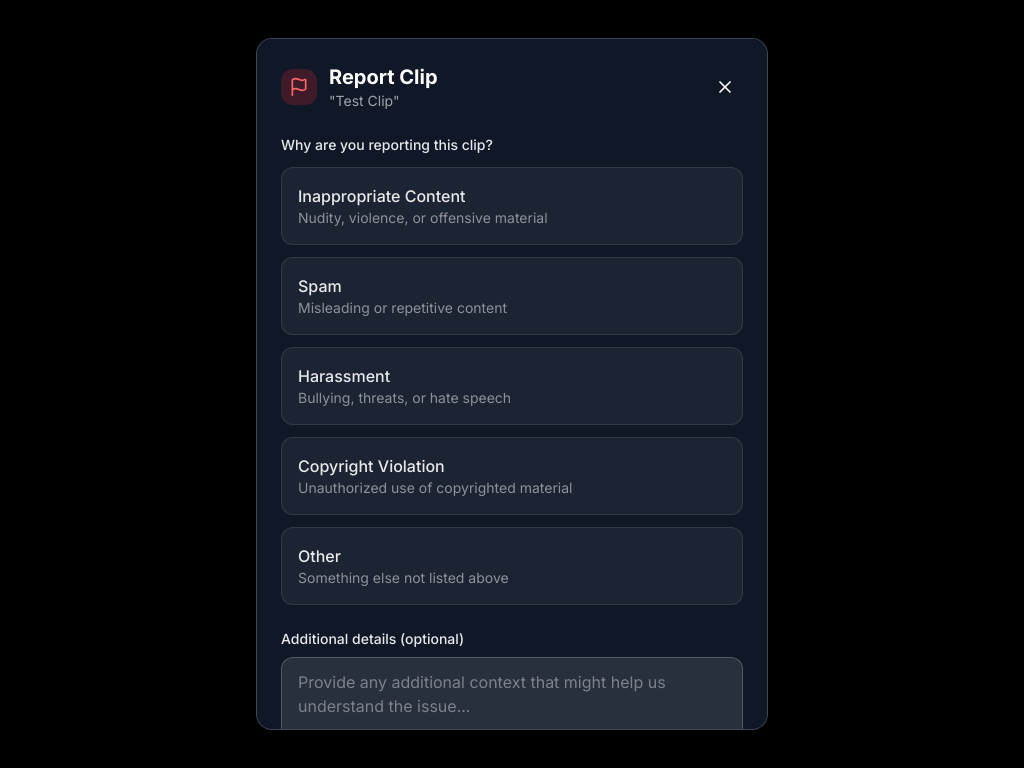
Test: ReportModal › submits report successfully and shows success message
// Select a reason
Click the text "Inappropriate Content": (382, 196) [298,186,466,206]
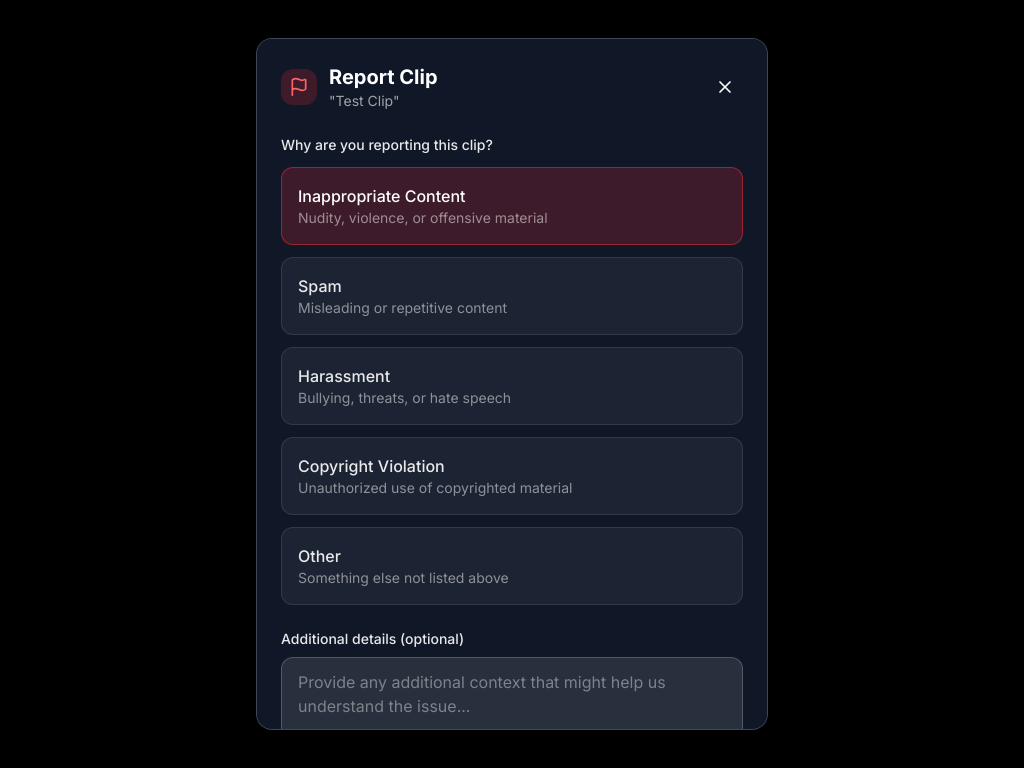
// Type additional details
Replace the text in the text box with placeholder "Provide any additional context" with "Offensive content in clip": (512, 706) [281,657,743,755]
(page scrolled)
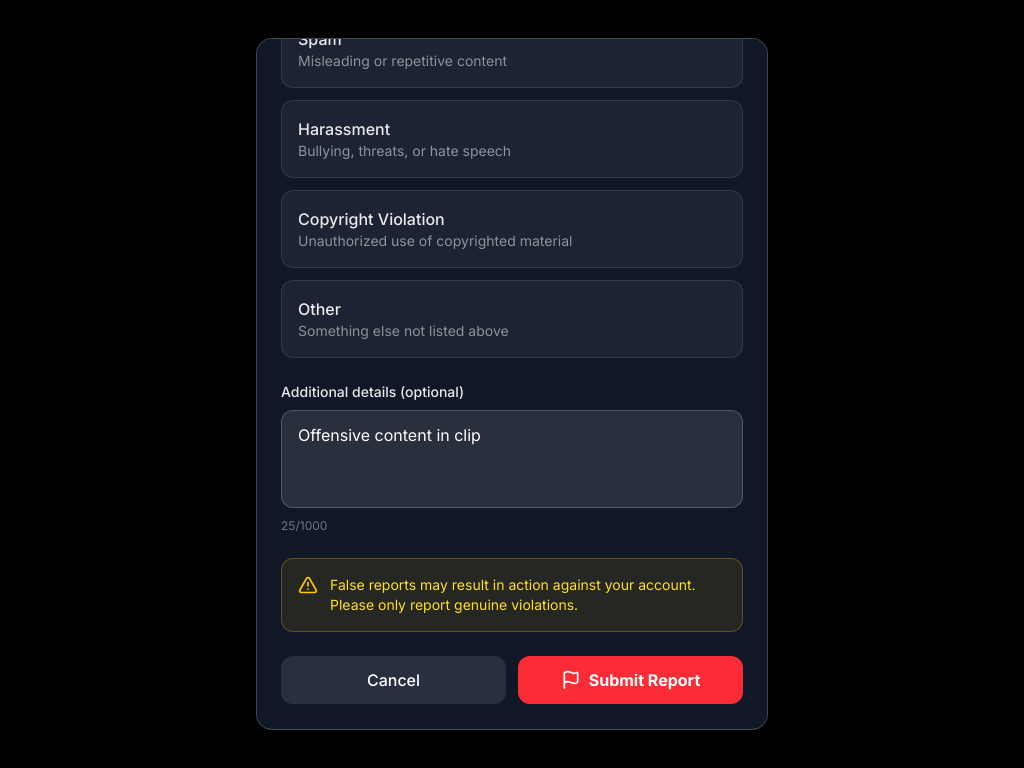
Click the button "Submit Report": (630, 680) [518,656,743,704]
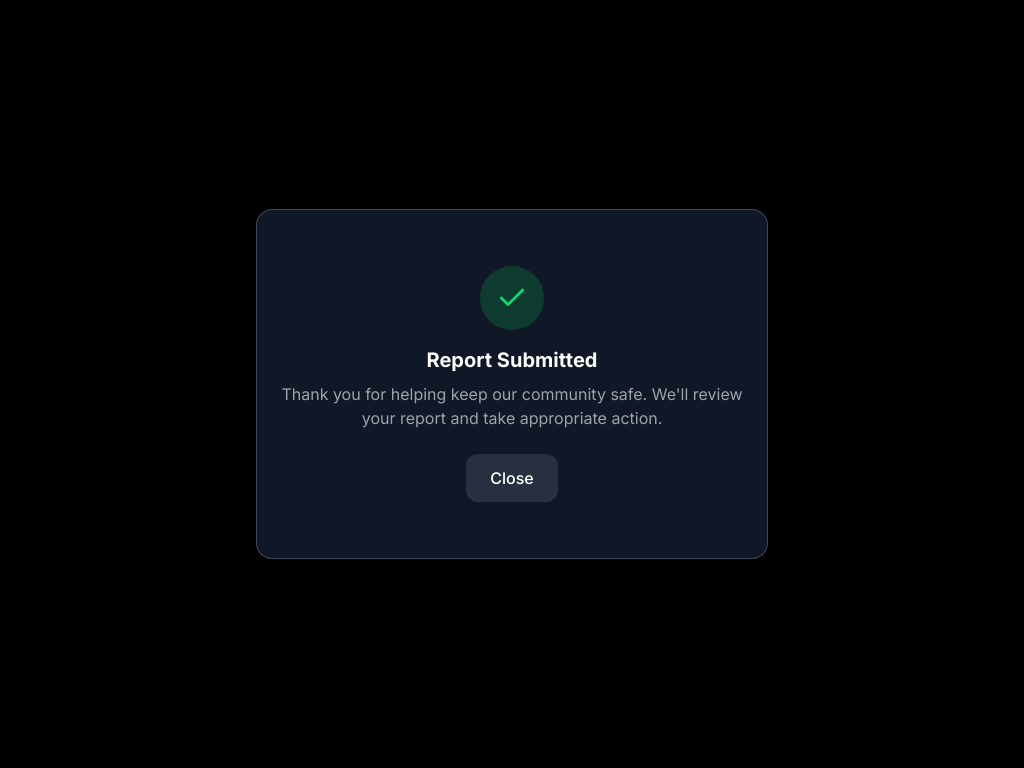
Expected: the heading "Report Submitted" is shown, [427,348,598,372]
Expected: the text "Thank you for helping keep our community safe" is shown, [281,384,743,428]
